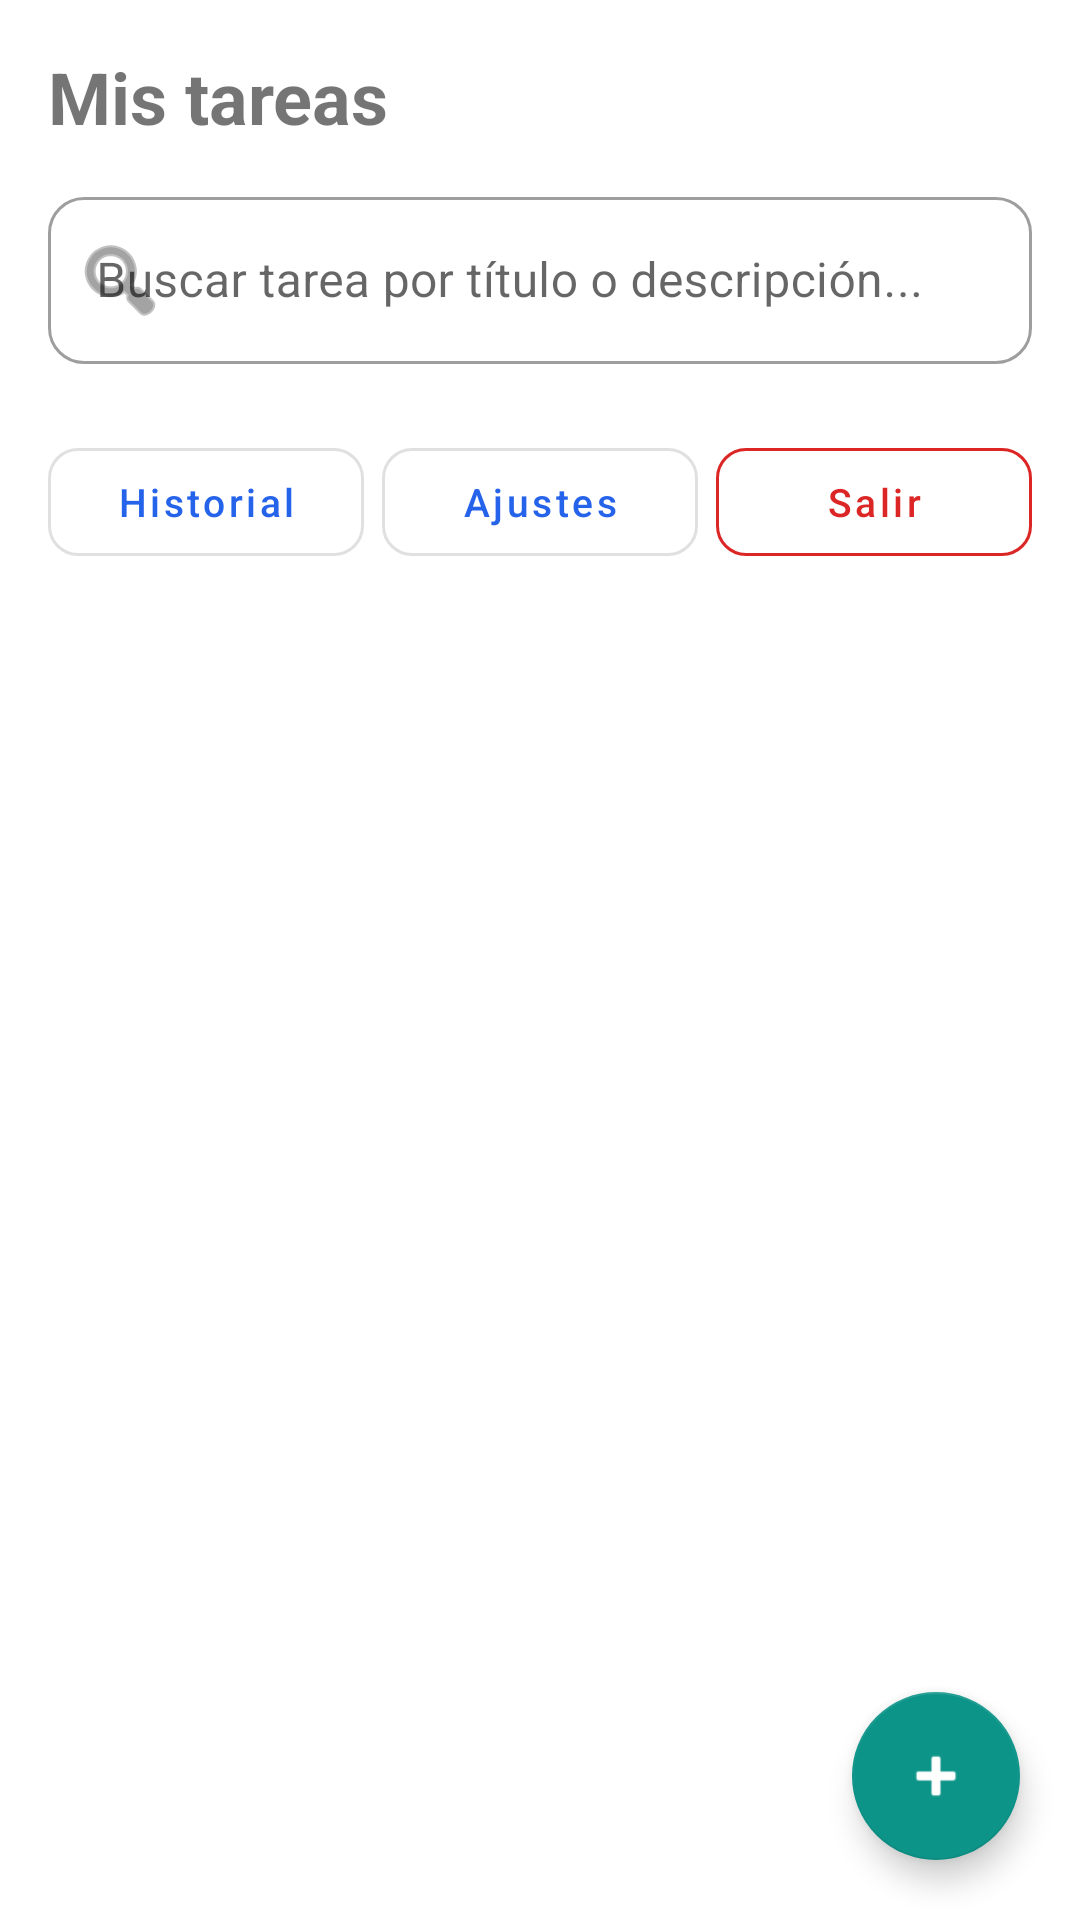

Icons on this 1080px x 1920px Android screen, each with the point to tap as point (x, y):
Agregar tarea: point (936, 1776)
